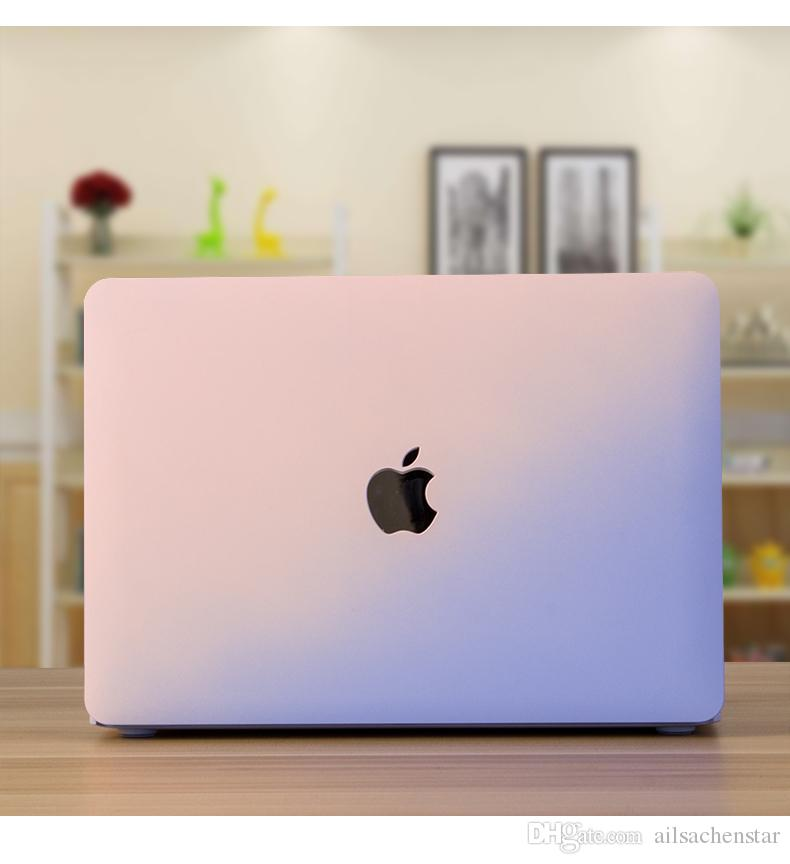apple: (356, 425, 445, 545)
